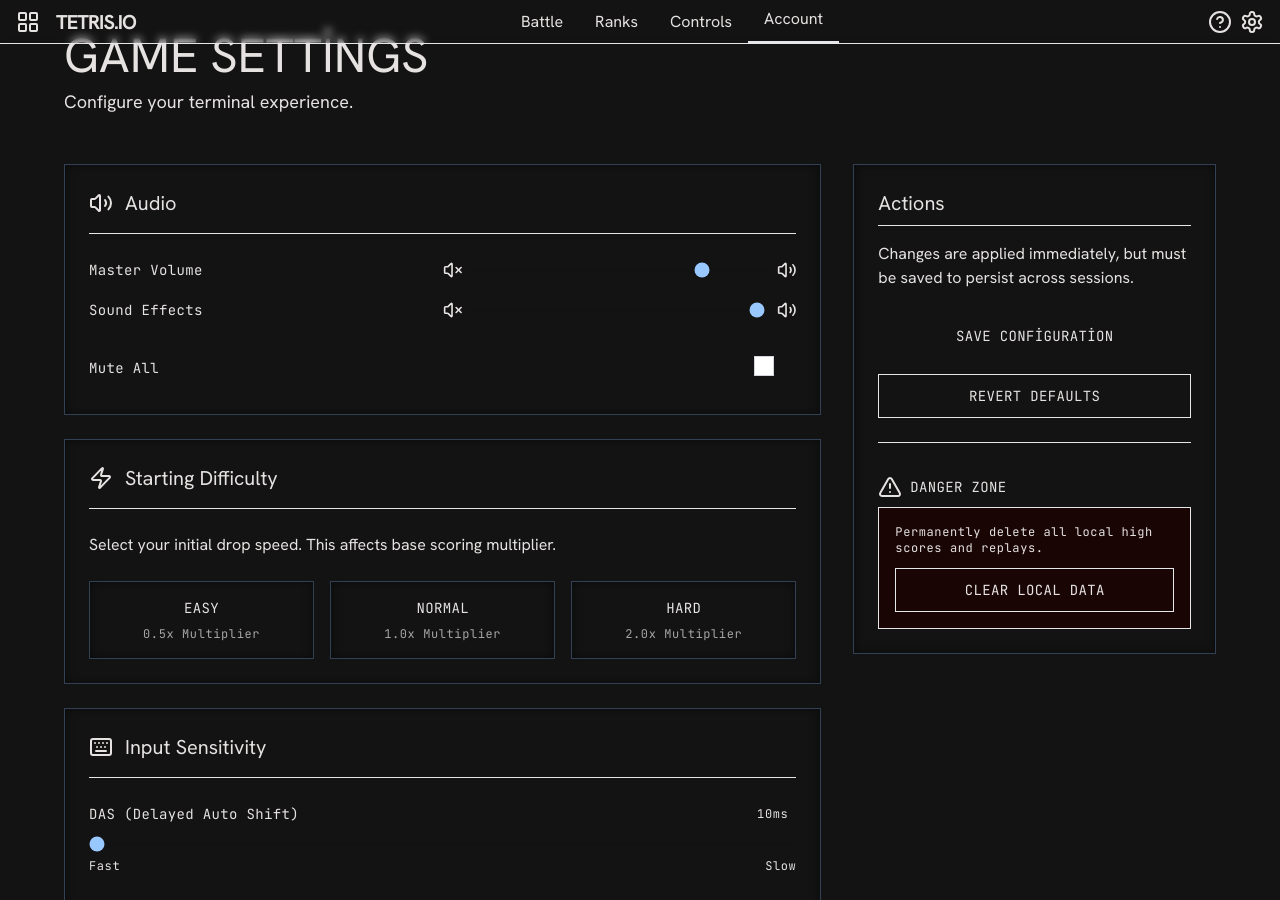
Test: GameOptions › shows validation error for invalid DAS value loaded from storage
Click the button "Save Configuration" at [1035, 336], box top-left (878, 314), bottom-right (1191, 358)
(page scrolled)
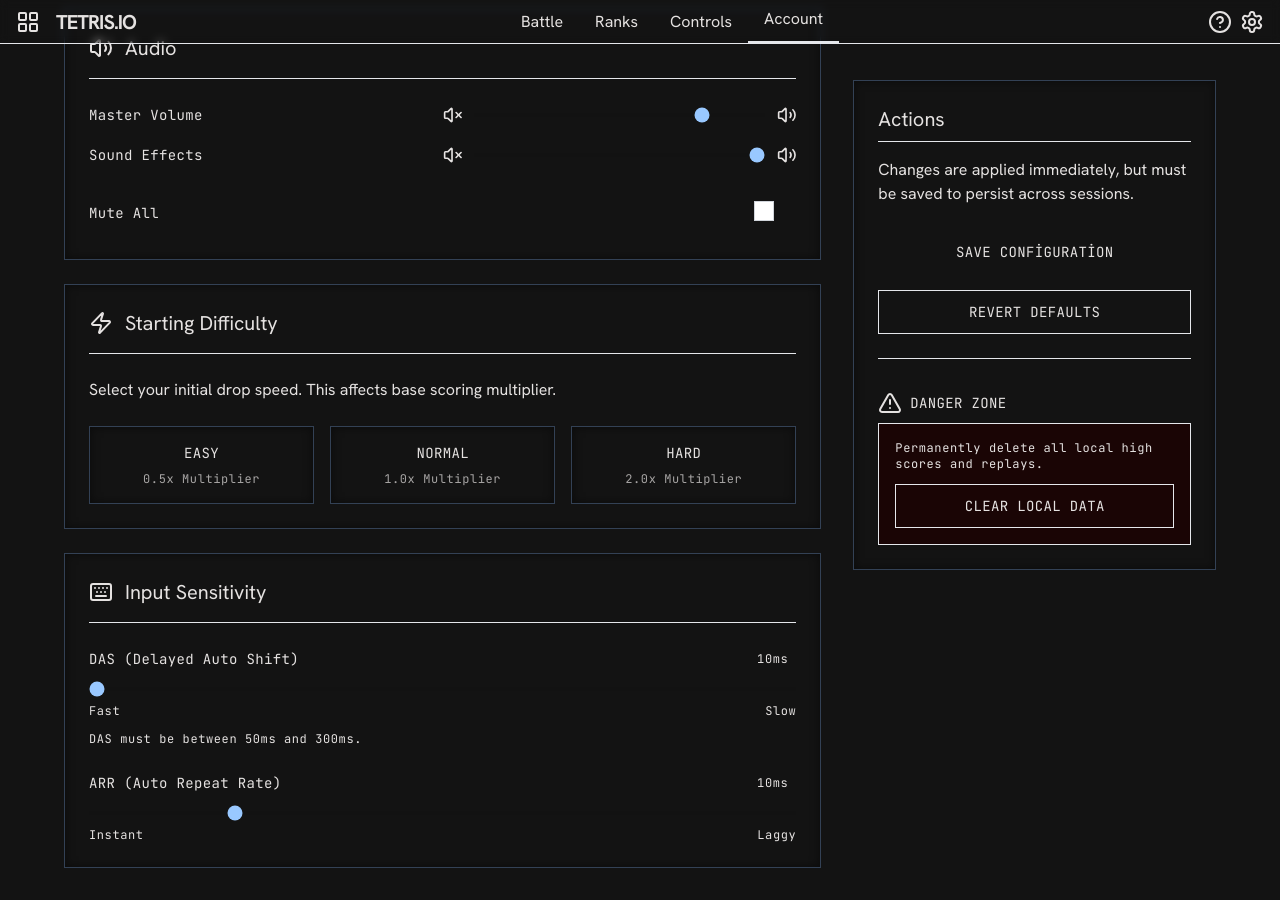
Now the text "DAS must be between 50ms and 300ms." is shown, box top-left (89, 731), bottom-right (362, 747)
